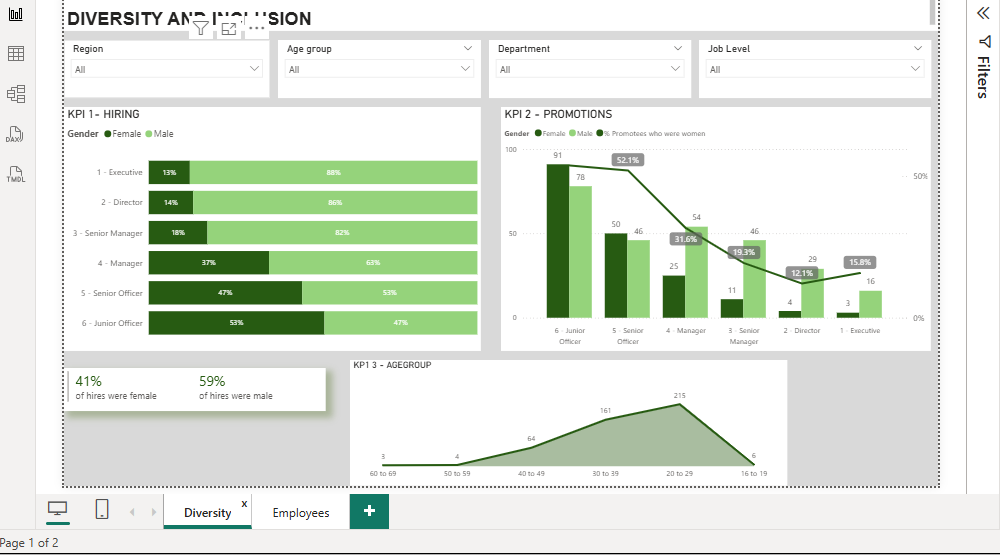

Layout of this report page (visuals, bound fields, positions):
{"tool":"powerbi","page":{"name":"Diversity","canvas":[1280,720],"ordinal":0},"visuals":[{"type":"textbox","box":[0,0,1280.5,54.1],"z":0},{"type":"slicer","fields":{"Values":["HR Manager.Age group"]},"box":[313.2,67.3,297.1,84.9],"z":1000},{"type":"slicer","fields":{"Values":["HR Manager.Last Department in FY20"]},"box":[622,67.3,295.6,84.9],"z":2000},{"type":"slicer","fields":{"Values":["HR Manager.Job Level after FY20 promotions"]},"box":[929.3,67.3,339.5,84.9],"z":3000},{"type":"slicer","fields":{"Values":["HR Manager.Region group: nationality 1"]},"box":[0,67.3,301.5,84.9],"z":4000},{"type":"hundredPercentStackedBarChart","title":"KPI 1- HIRING","fields":{"Series":["HR Manager.Gender"],"Y":["CountNonNull(HR Manager.Employee ID)"],"Category":["HR Manager.Job Level after FY20 promotions"]},"box":[0,165.4,610.2,357.1],"z":5001},{"type":"lineClusteredColumnComboChart","title":"KPI 2 - PROMOTIONS","fields":{"Y":["CountNonNull(HR Manager.Employee ID)"],"Series":["HR Manager.Gender"],"Y2":["HR Manager.% Promotees who were women"],"Category":["HR Manager.Job Level after FY21 promotions"]},"box":[639.5,165.4,629.3,357.1],"z":5002},{"type":"multiRowCard","fields":{"Values":["HR Manager.% of hires women","HR Manager.% of hires men"]},"box":[0,547.3,383.4,62.9],"z":5003},{"type":"areaChart","title":"KP1 3 - AGEGROUP","fields":{"Category":["HR Manager.Age group"],"Y":["CountNonNull(HR Manager.Employee ID)"]},"box":[418.5,535.6,639.5,184.4],"z":5004}]}

Visuals, with their boxes on the page's 1280x720 design canvas (x1, y1, x2, y2). These are canvas units, not pixel positions in the 1000x555 screenshot, which may show the page scaled, cropped or inside an application window:
textbox: (x1=0, y1=0, x2=1280, y2=54)
slicer - HR Manager.Age group: (x1=313, y1=67, x2=610, y2=152)
slicer - HR Manager.Last Department in FY20: (x1=622, y1=67, x2=918, y2=152)
slicer - HR Manager.Job Level after FY20 promotions: (x1=929, y1=67, x2=1269, y2=152)
slicer - HR Manager.Region group: nationality 1: (x1=0, y1=67, x2=302, y2=152)
"KPI 1- HIRING" hundredPercentStackedBarChart: (x1=0, y1=165, x2=610, y2=522)
"KPI 2 - PROMOTIONS" lineClusteredColumnComboChart: (x1=640, y1=165, x2=1269, y2=522)
multiRowCard - HR Manager.% of hires women x HR Manager.% of hires men: (x1=0, y1=547, x2=383, y2=610)
"KP1 3 - AGEGROUP" areaChart: (x1=418, y1=536, x2=1058, y2=720)
